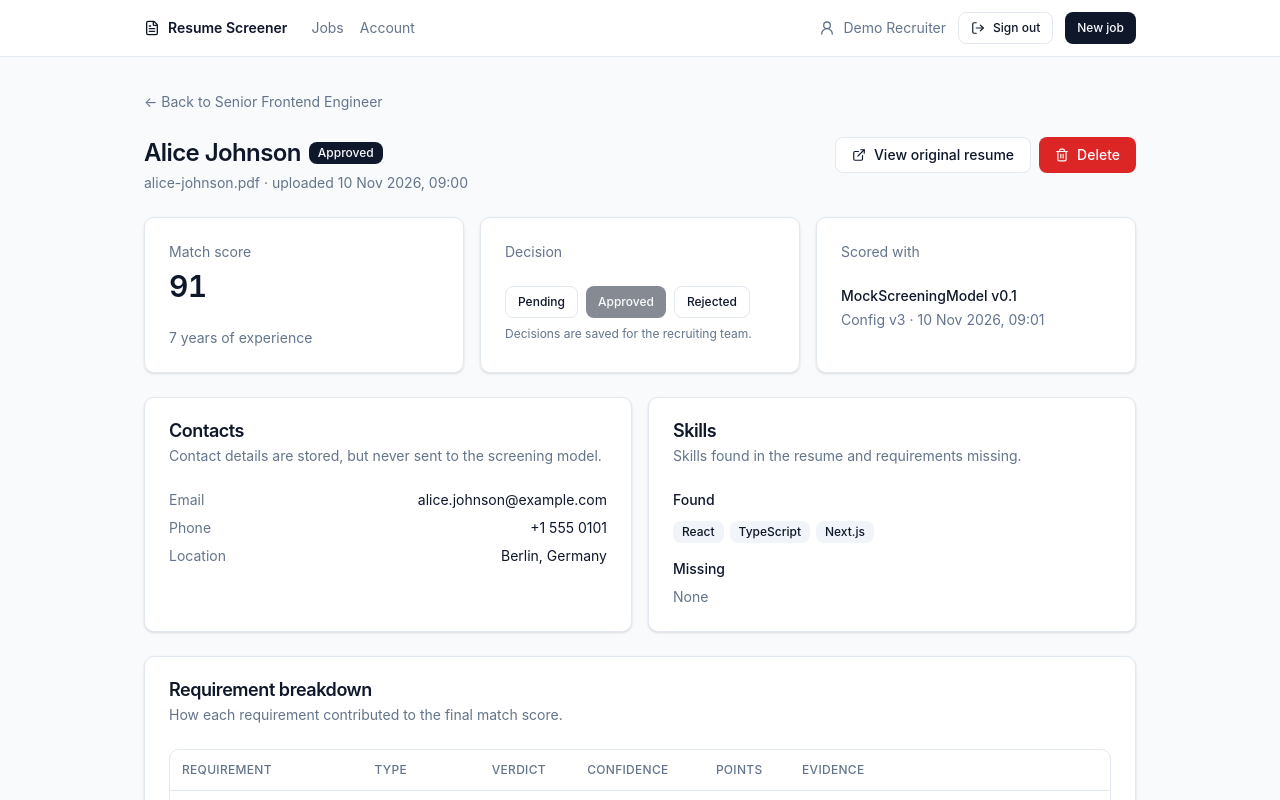
it: candidate workflows › opens the candidate card and updates the decision
This screenshot has width=1280, height=800.
expect the heading "Alice Johnson" is shown: met, box [144,137,301,169]
expect the heading "Requirement breakdown" is shown: met, box [169,679,372,700]
Click the button "Rejected".
click(712, 302)  # box [674,286,750,318]
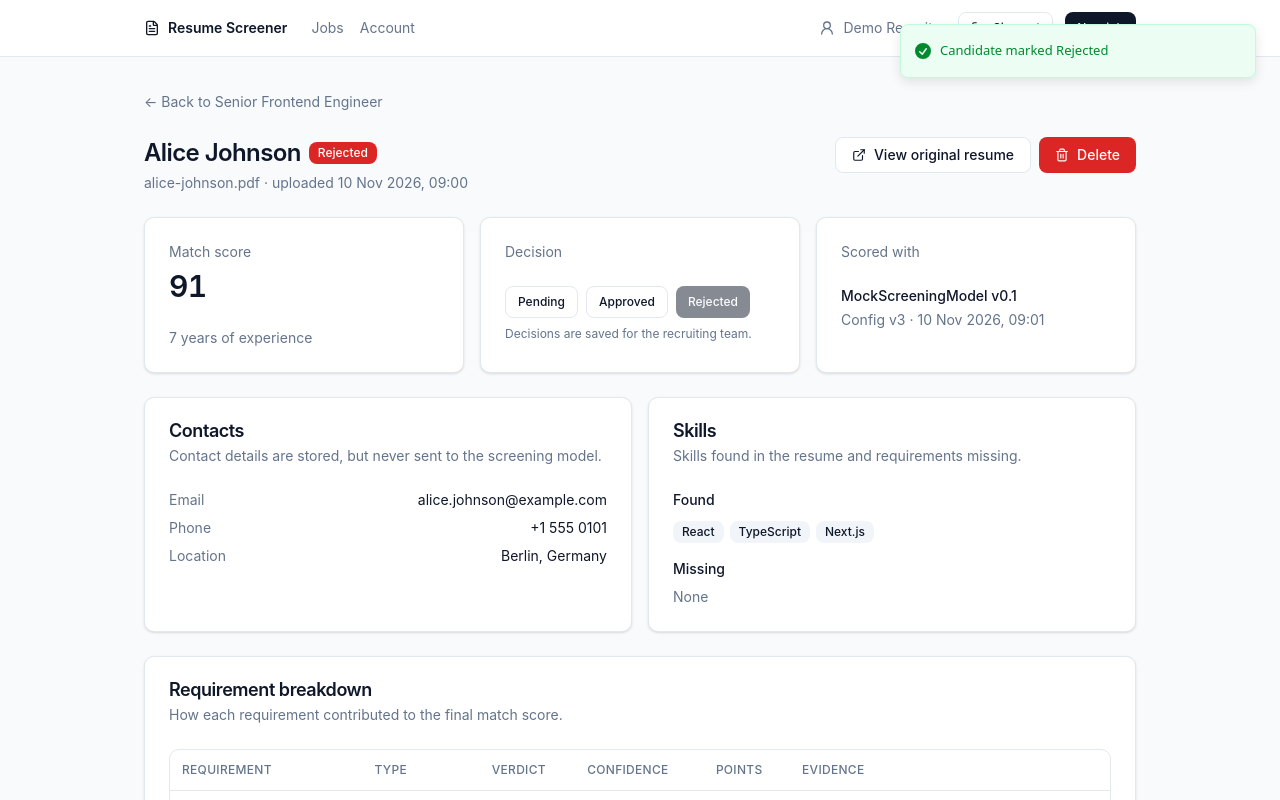
expect the text "Candidate marked Rejected" is shown: met, box [940,41,1108,60]
